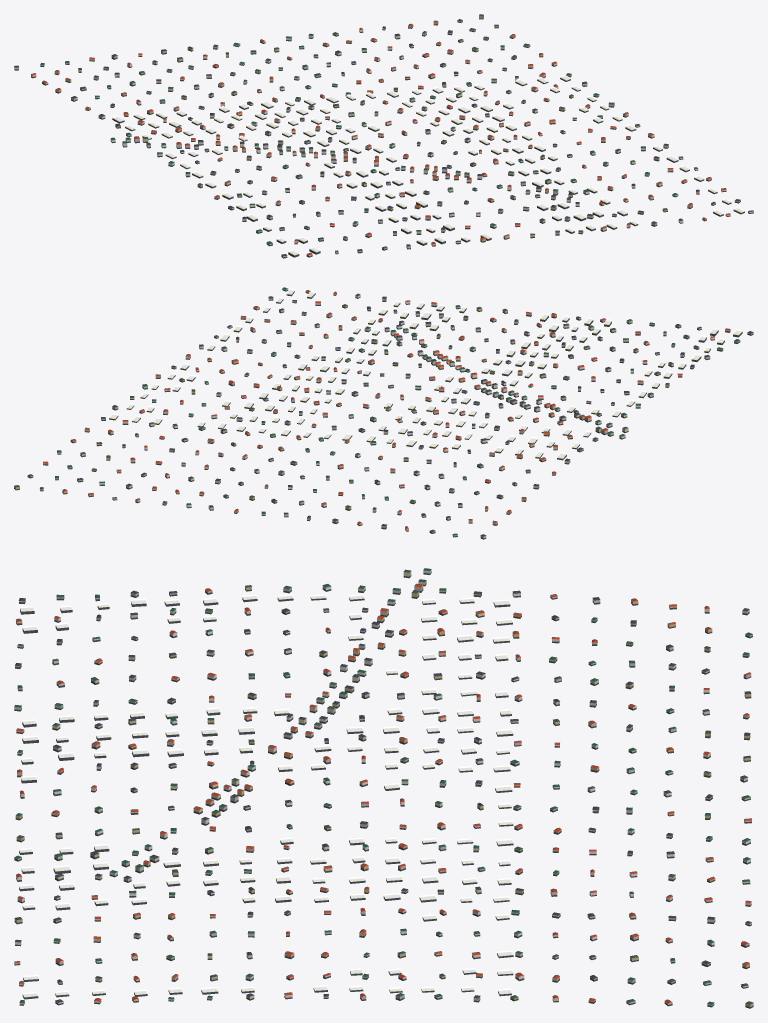
File: buildings_T_E01_N06.glb
3 views of the same model, one above another, from view 1: azimuth 30°, elevation 25°; view 2: azimuth 150°, elevation 25°; view 3: azimuth 270°, elevation 25° (orthographic). The views are drawn at different scales.
Visible parts, largest first — view 1: T_E01_N06_slope_seating_foundations, T_E01_N06_roofs_agri_greenhouse_arch, T_E01_N06_roofs_roof_terracotta_gable, T_E01_N06_roofs_roof_pine_green_hip, T_E01_N06_roofs_roof_slate_French_villa_hip, T_E01_N06_walls_wall_pastel_sand_gray, T_E01_N06_walls_wall_modern_warm_white, T_E01_N06_walls_wall_dalat_cream_stucco, T_E01_N06_walls_wall_french_ochre_villa; view 2: T_E01_N06_slope_seating_foundations, T_E01_N06_roofs_agri_greenhouse_arch, T_E01_N06_roofs_roof_terracotta_gable, T_E01_N06_roofs_roof_pine_green_hip, T_E01_N06_roofs_roof_slate_French_villa_hip, T_E01_N06_walls_wall_pastel_sand_gray, T_E01_N06_walls_wall_dalat_cream_stucco, T_E01_N06_walls_wall_modern_warm_white, T_E01_N06_walls_wall_french_ochre_villa; view 3: T_E01_N06_slope_seating_foundations, T_E01_N06_roofs_agri_greenhouse_arch, T_E01_N06_roofs_roof_terracotta_gable, T_E01_N06_roofs_roof_pine_green_hip, T_E01_N06_roofs_roof_slate_French_villa_hip, T_E01_N06_walls_wall_pastel_sand_gray, T_E01_N06_walls_wall_modern_warm_white, T_E01_N06_walls_wall_dalat_cream_stucco, T_E01_N06_walls_wall_french_ochre_villa.
Boxes of the visible parts, left/top/right/bottom form: T_E01_N06_slope_seating_foundations: left=14, top=17, right=753, bottom=258; T_E01_N06_roofs_agri_greenhouse_arch: left=112, top=75, right=744, bottom=255; T_E01_N06_roofs_roof_terracotta_gable: left=32, top=20, right=730, bottom=255; T_E01_N06_roofs_roof_pine_green_hip: left=40, top=14, right=753, bottom=252; T_E01_N06_roofs_roof_slate_French_villa_hip: left=14, top=19, right=740, bottom=256; T_E01_N06_walls_wall_pastel_sand_gray: left=40, top=25, right=715, bottom=252; T_E01_N06_walls_wall_modern_warm_white: left=98, top=27, right=753, bottom=253; T_E01_N06_walls_wall_dalat_cream_stucco: left=14, top=20, right=730, bottom=257; T_E01_N06_walls_wall_french_ochre_villa: left=54, top=15, right=706, bottom=241; T_E01_N06_slope_seating_foundations: left=14, top=289, right=753, bottom=539; T_E01_N06_roofs_agri_greenhouse_arch: left=109, top=288, right=742, bottom=458; T_E01_N06_roofs_roof_terracotta_gable: left=43, top=290, right=730, bottom=528; T_E01_N06_roofs_roof_pine_green_hip: left=14, top=287, right=739, bottom=535; T_E01_N06_roofs_roof_slate_French_villa_hip: left=40, top=293, right=753, bottom=536; T_E01_N06_walls_wall_pastel_sand_gray: left=27, top=301, right=740, bottom=536; T_E01_N06_walls_wall_dalat_cream_stucco: left=40, top=291, right=753, bottom=538; T_E01_N06_walls_wall_modern_warm_white: left=57, top=288, right=714, bottom=514; T_E01_N06_walls_wall_french_ochre_villa: left=14, top=293, right=669, bottom=532; T_E01_N06_slope_seating_foundations: left=14, top=572, right=753, bottom=1008; T_E01_N06_roofs_agri_greenhouse_arch: left=19, top=594, right=513, bottom=997; T_E01_N06_roofs_roof_terracotta_gable: left=14, top=583, right=751, bottom=1003; T_E01_N06_roofs_roof_pine_green_hip: left=14, top=568, right=753, bottom=1004; T_E01_N06_roofs_roof_slate_French_villa_hip: left=15, top=590, right=751, bottom=1002; T_E01_N06_walls_wall_pastel_sand_gray: left=14, top=585, right=752, bottom=1005; T_E01_N06_walls_wall_modern_warm_white: left=15, top=569, right=751, bottom=1004; T_E01_N06_walls_wall_dalat_cream_stucco: left=14, top=571, right=751, bottom=1001; T_E01_N06_walls_wall_french_ochre_villa: left=14, top=586, right=753, bottom=1007.
Bounding box in the file's own units: 1816 × 306 × 1741.
